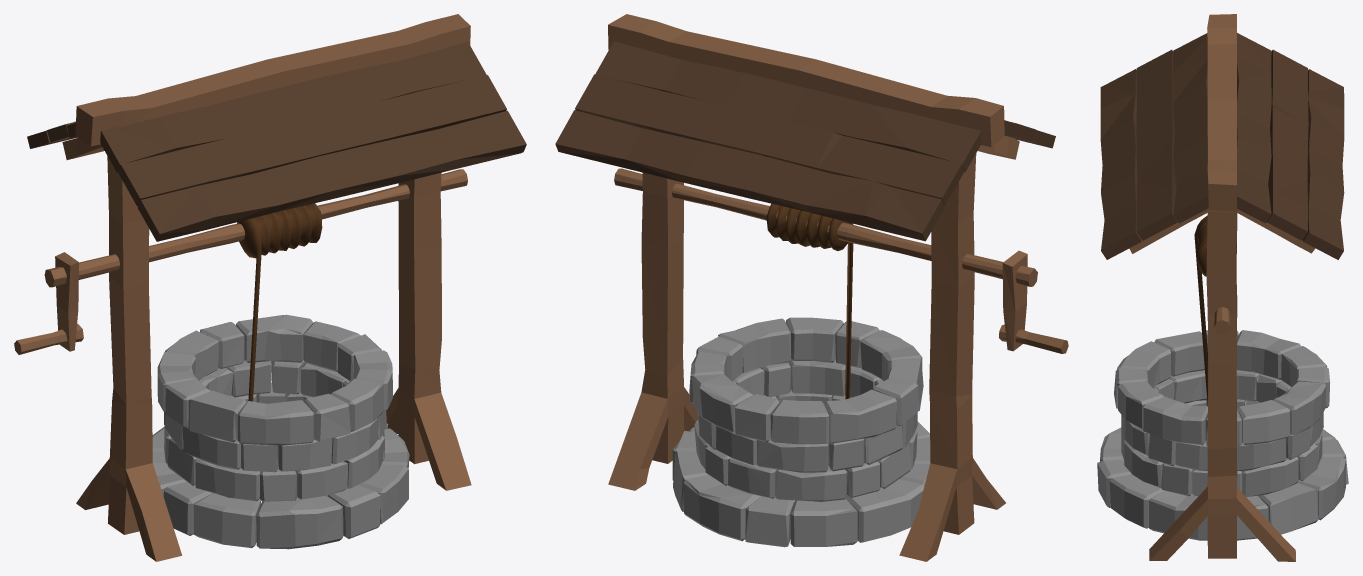
File: well.fbx
The picture shows the model from 3 angles, left to right: view 1: azimuth 30°, elevation 25°; view 2: azimuth 150°, elevation 25°; view 3: azimuth 270°, elevation 25°; orthographic projection. The views are drawn at different scales.
Visible parts, largest first — view 1: Well; view 2: Well; view 3: Well.
Part boxes in pixels (x1,y1,x2,y2): Well: [14, 14, 526, 561]; Well: [555, 14, 1068, 561]; Well: [1097, 14, 1348, 561].
Bounding box in the file's own units: 302 × 285 × 160.
